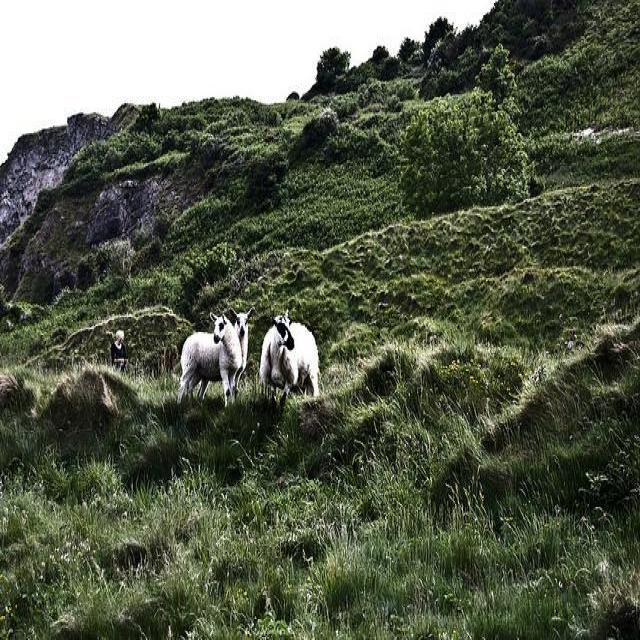Sheep: (260, 307, 320, 420), (177, 312, 242, 410), (226, 304, 261, 390)
